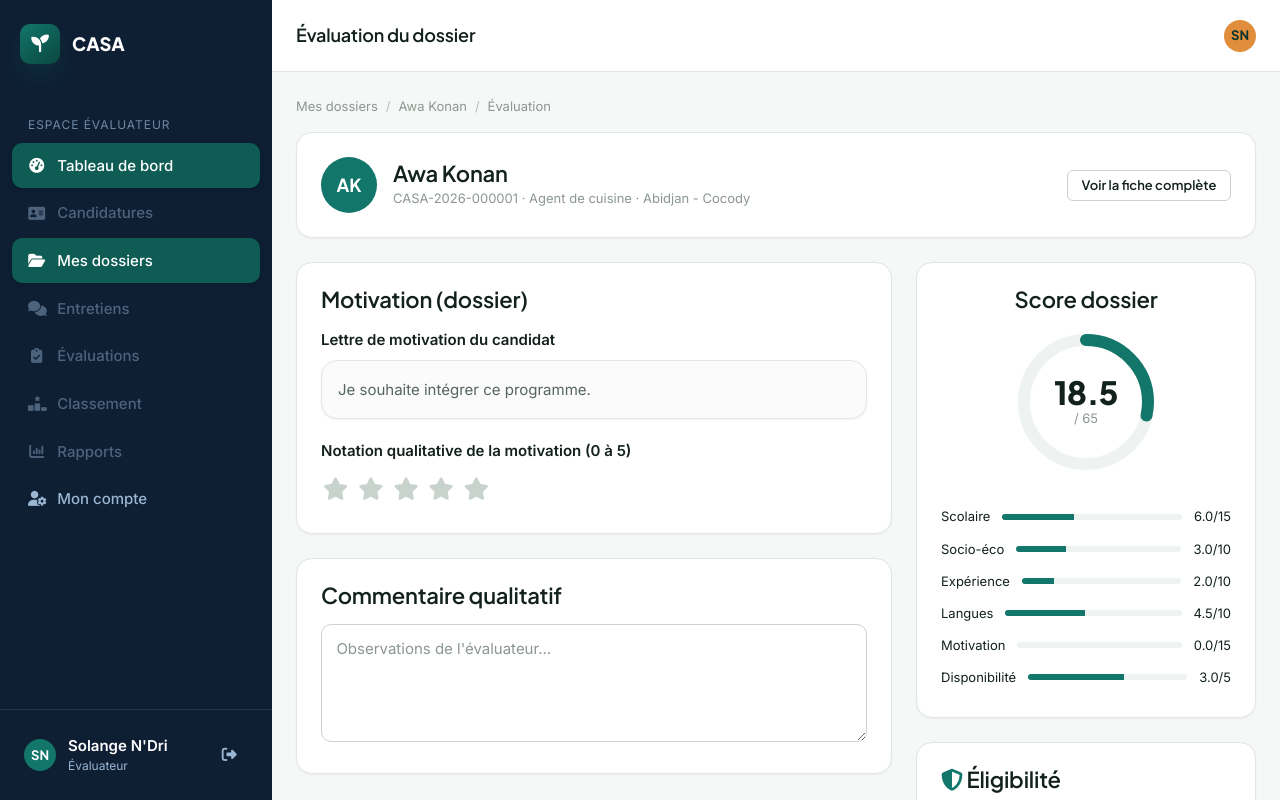
Test case: EvaluationDossier — le score AFFICHÉ vient toujours de la réponse API › saisie étoiles + commentaire -> PUT -> le nouvel aperçu renvoyé par le PUT est affiché
The image size is (1280, 800).
Expected: the text "18.5" is shown, [1054, 376, 1118, 408]
Click the button named "3 étoiles".
click(406, 490)  # box [391, 470, 421, 509]
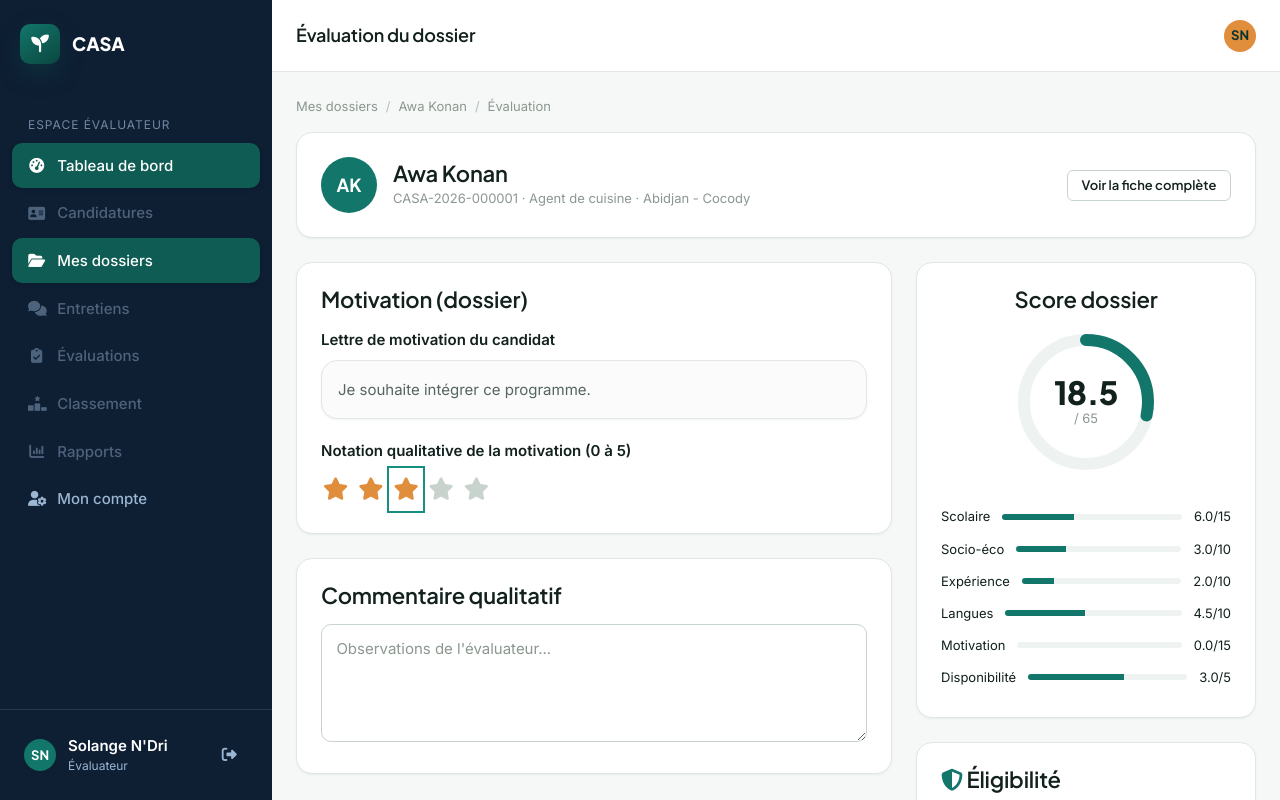
Type "Motivation sincère." into the text box with placeholder "Observations de l'évaluateur...".
click(594, 683); type("Motivation sincère.")  # box [321, 624, 867, 742]
(page scrolled)
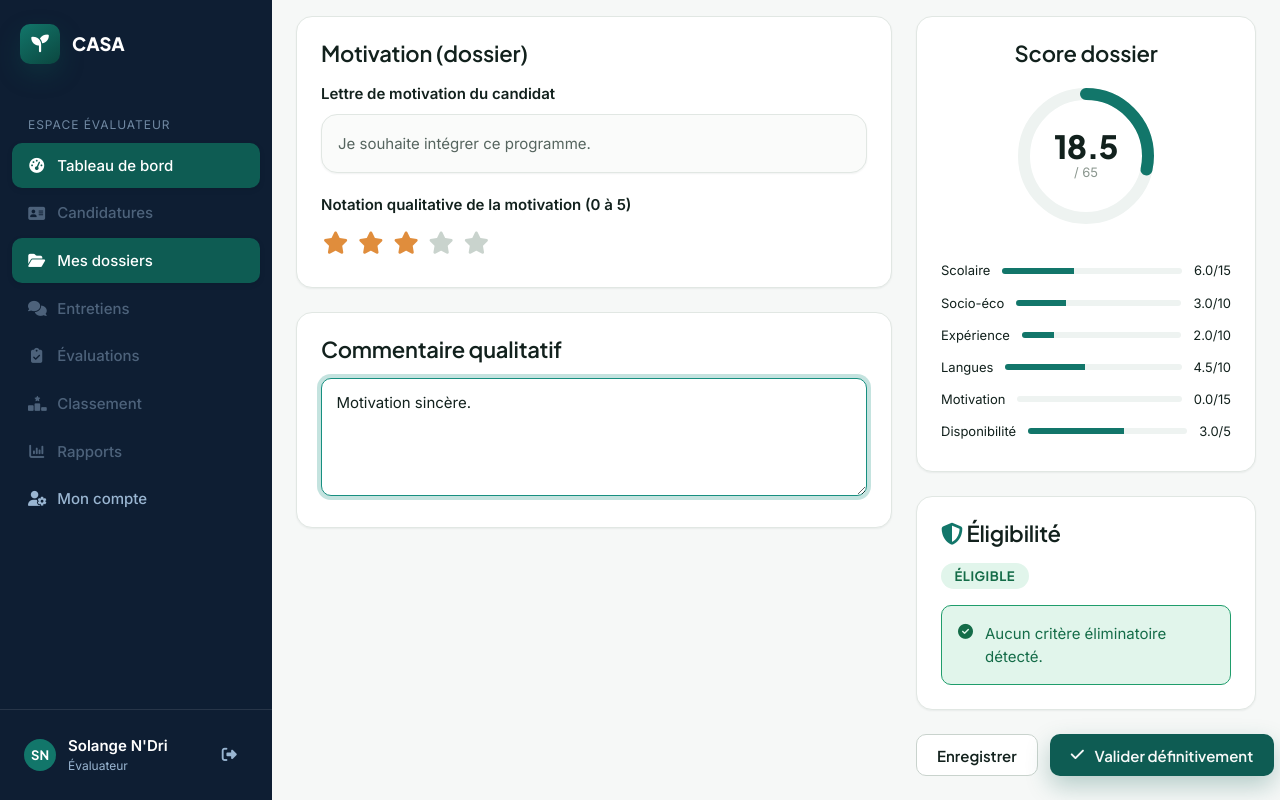
Click the button "Enregistrer".
click(977, 755)  # box [916, 734, 1038, 776]
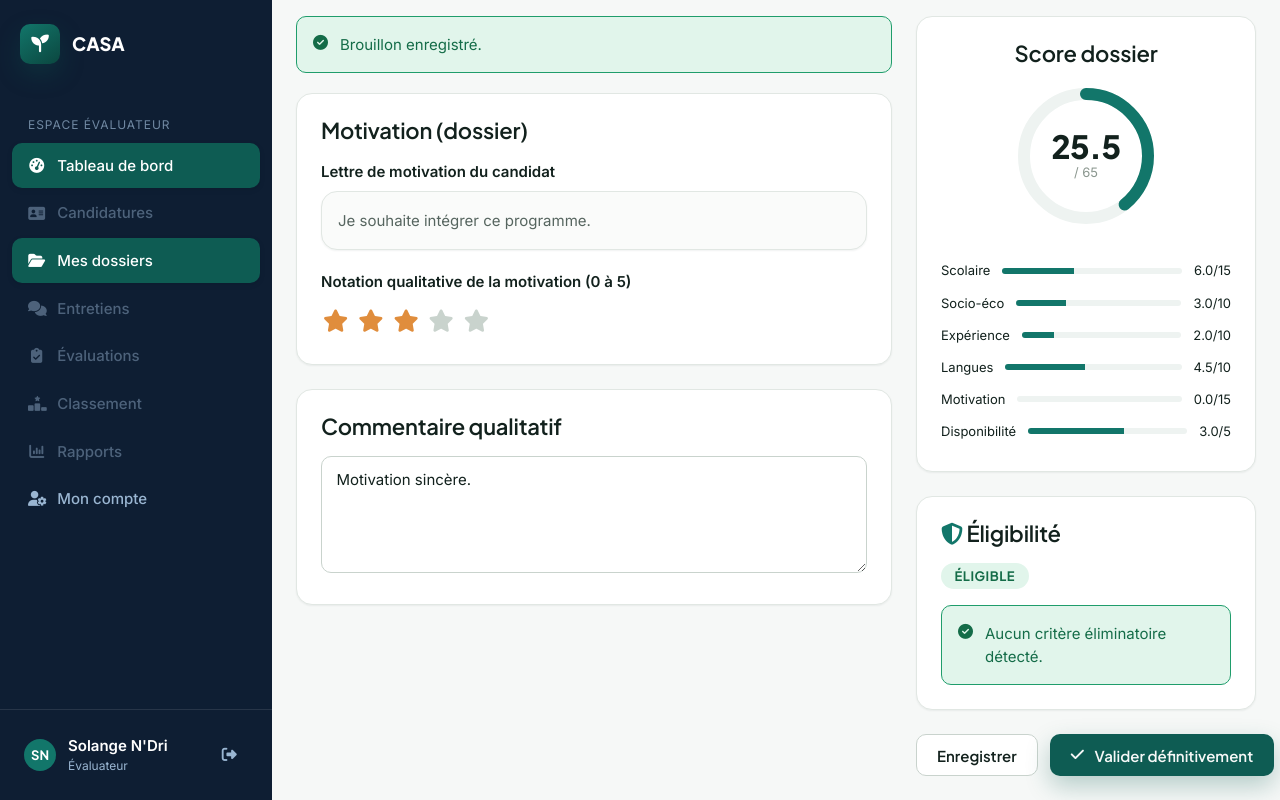
Now the text "25.5" is shown, box [1052, 130, 1120, 162]
Now the text "Brouillon enregistré." is shown, box [340, 33, 482, 56]
